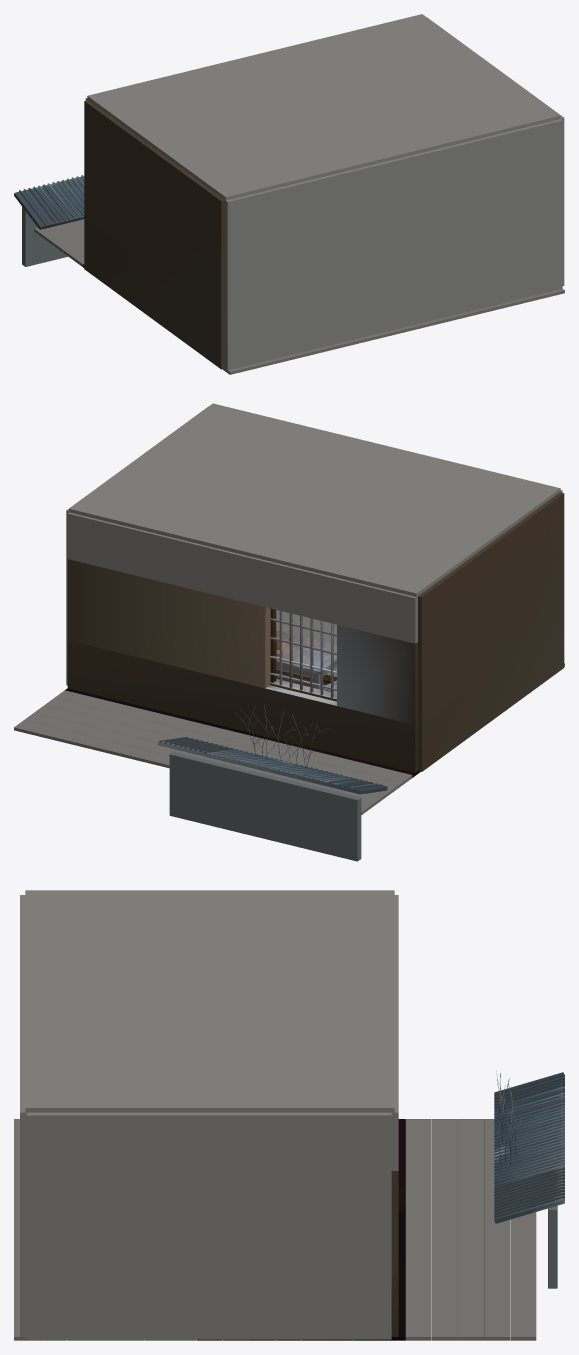
File: desk-world.glb
The picture shows the model from 3 angles, top to bottom: view 1: azimuth 30°, elevation 25°; view 2: azimuth 150°, elevation 25°; view 3: azimuth 270°, elevation 25°; orthographic projection. The views are drawn at different scales.
Size of the model in its own units: 6.24 by 3.64 by 6.41.
